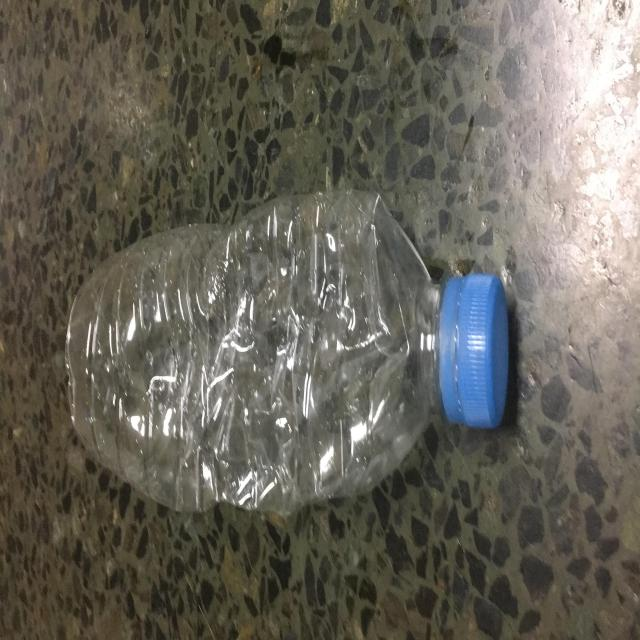bottle: (60, 187, 524, 534)
